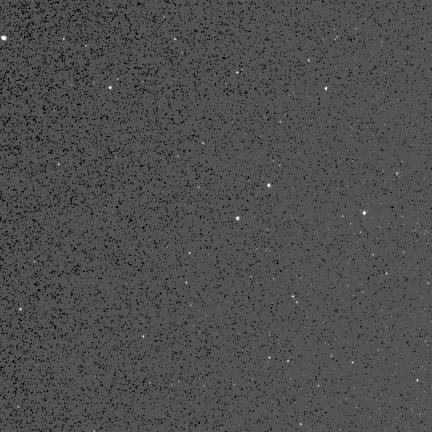blob: (1, 36, 7, 40), (236, 216, 239, 221), (325, 87, 327, 91), (268, 184, 270, 187)
